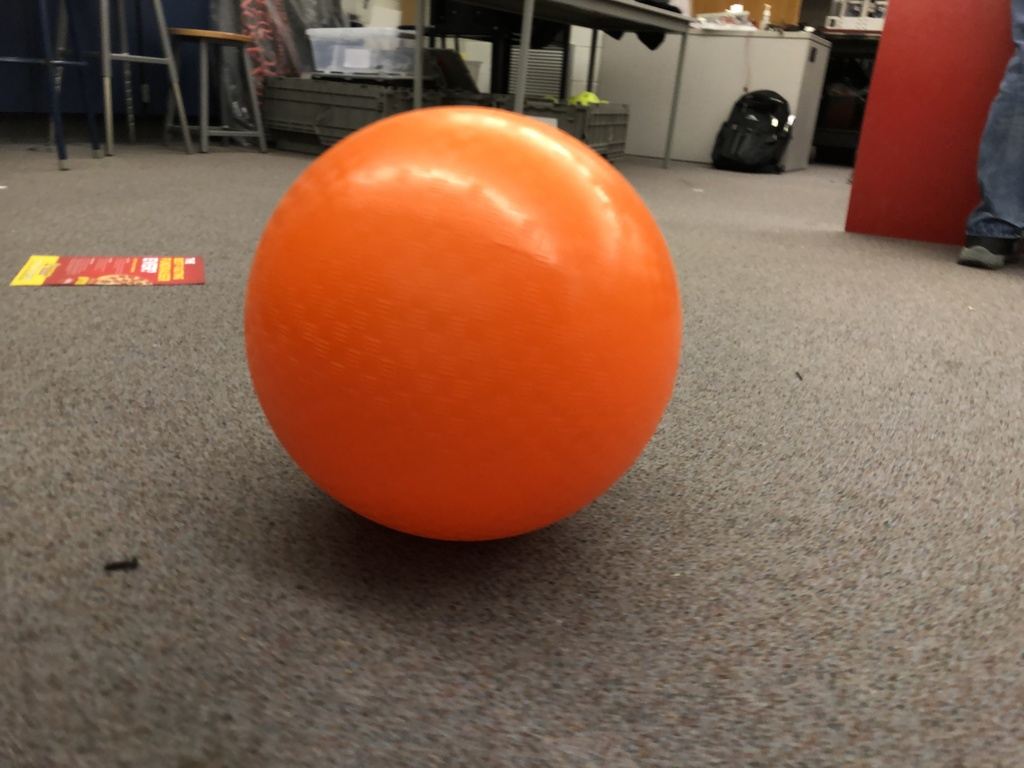cargo: (235, 84, 699, 564)
